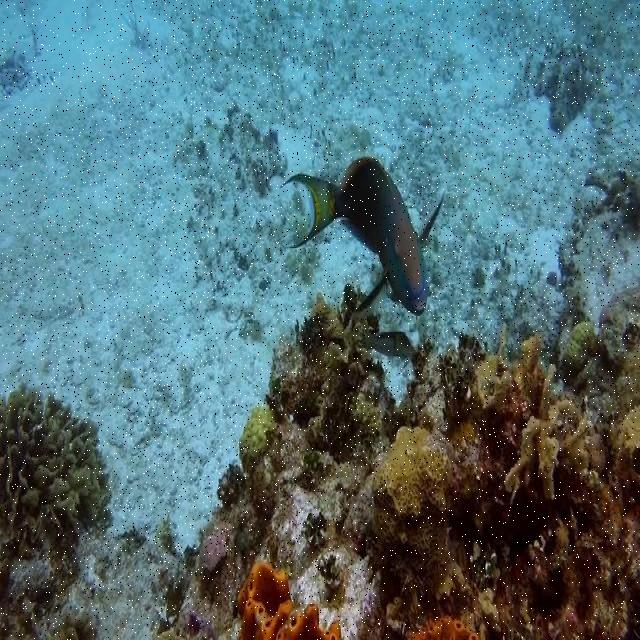fish: (285, 156, 446, 316)
reefs: (156, 285, 636, 639), (0, 387, 113, 557)
